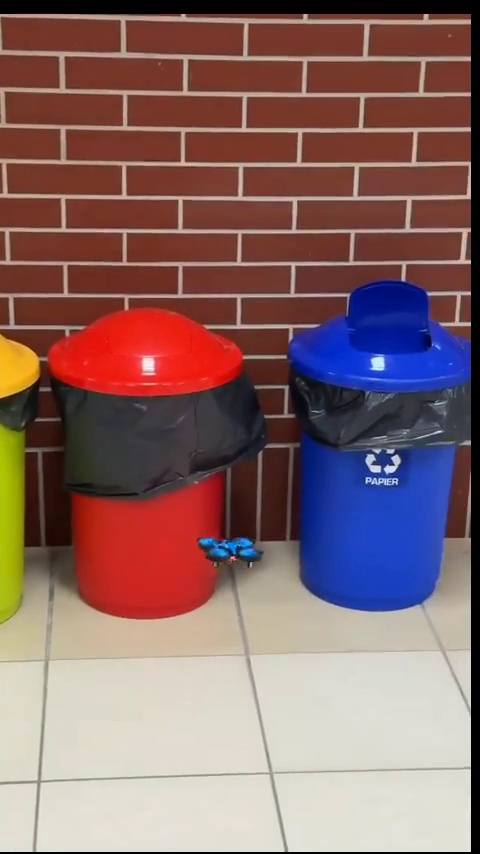drone: (196, 534, 253, 570)
